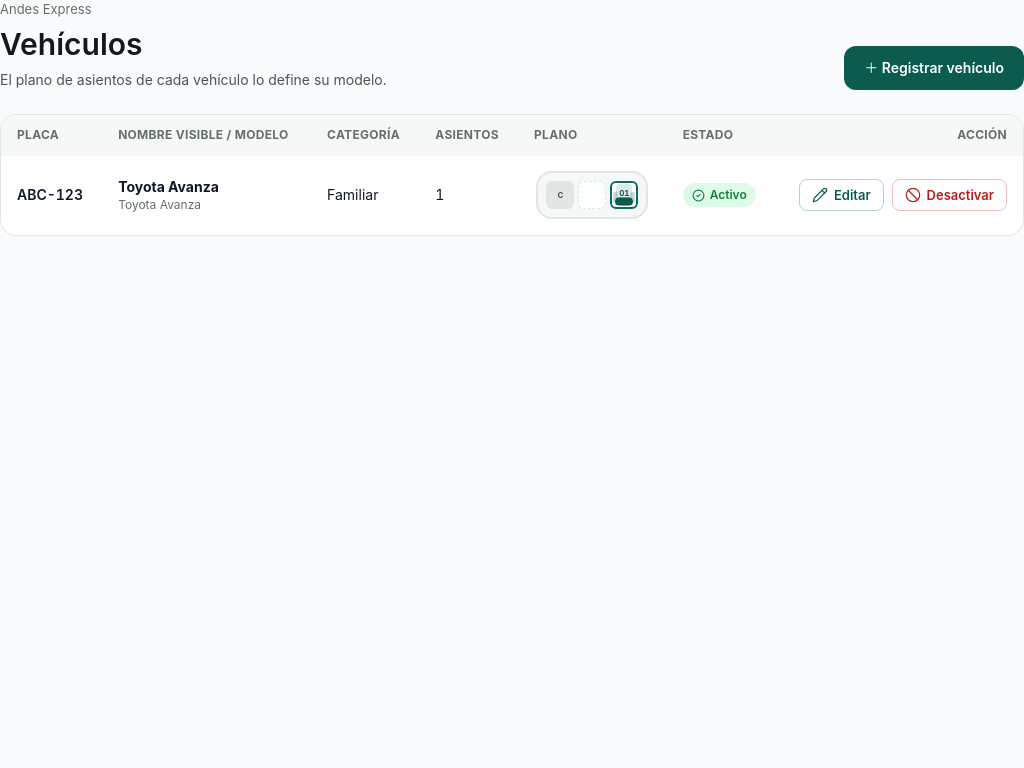
Test case: AgencyCatalogPage › renders a vehicle table with the plan thumbnail
Later steps or results of the test are not shown.
Expected: the text "ABC-123" is shown, [1, 155, 102, 235]
Expected: the table is shown, [1, 114, 1023, 235]
Click the button with aria-label "Desactivar vehículo ABC-123".
click(949, 195)  # box [892, 179, 1007, 211]
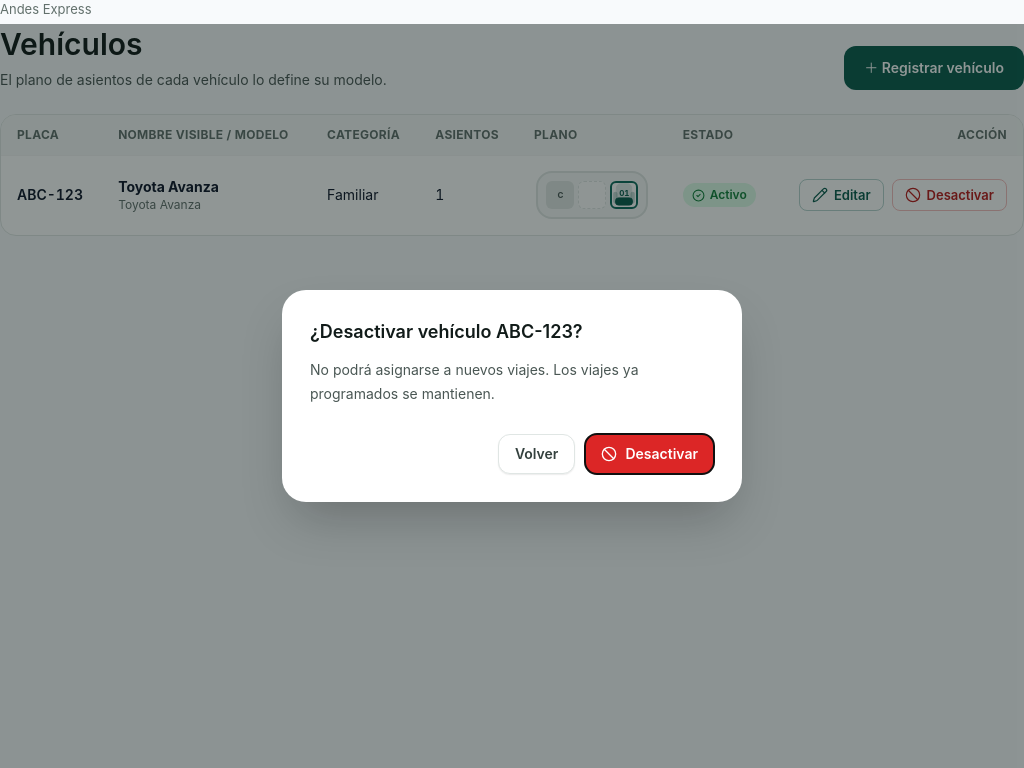
Result: the dialog shows "No podrá asignarse a nuevos viajes." at [310, 361, 638, 402]
